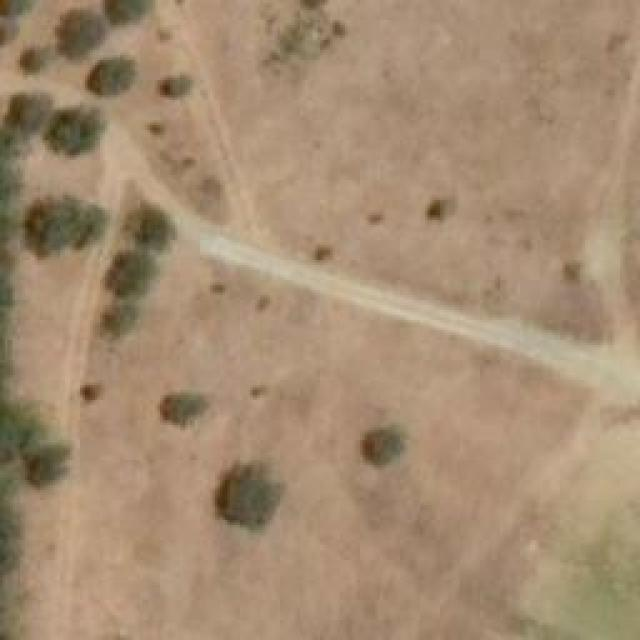Tree: (223, 468, 283, 528), (28, 195, 81, 255), (40, 107, 100, 155), (50, 8, 103, 58), (110, 250, 155, 300), (122, 203, 170, 246), (358, 430, 403, 470), (90, 55, 133, 93), (158, 393, 203, 428), (7, 93, 45, 133), (103, 300, 144, 337), (30, 447, 65, 485), (73, 208, 106, 248), (100, 0, 145, 25), (73, 376, 107, 408), (18, 48, 43, 73), (155, 75, 185, 95), (0, 0, 32, 17), (430, 200, 455, 220), (310, 243, 328, 263)
